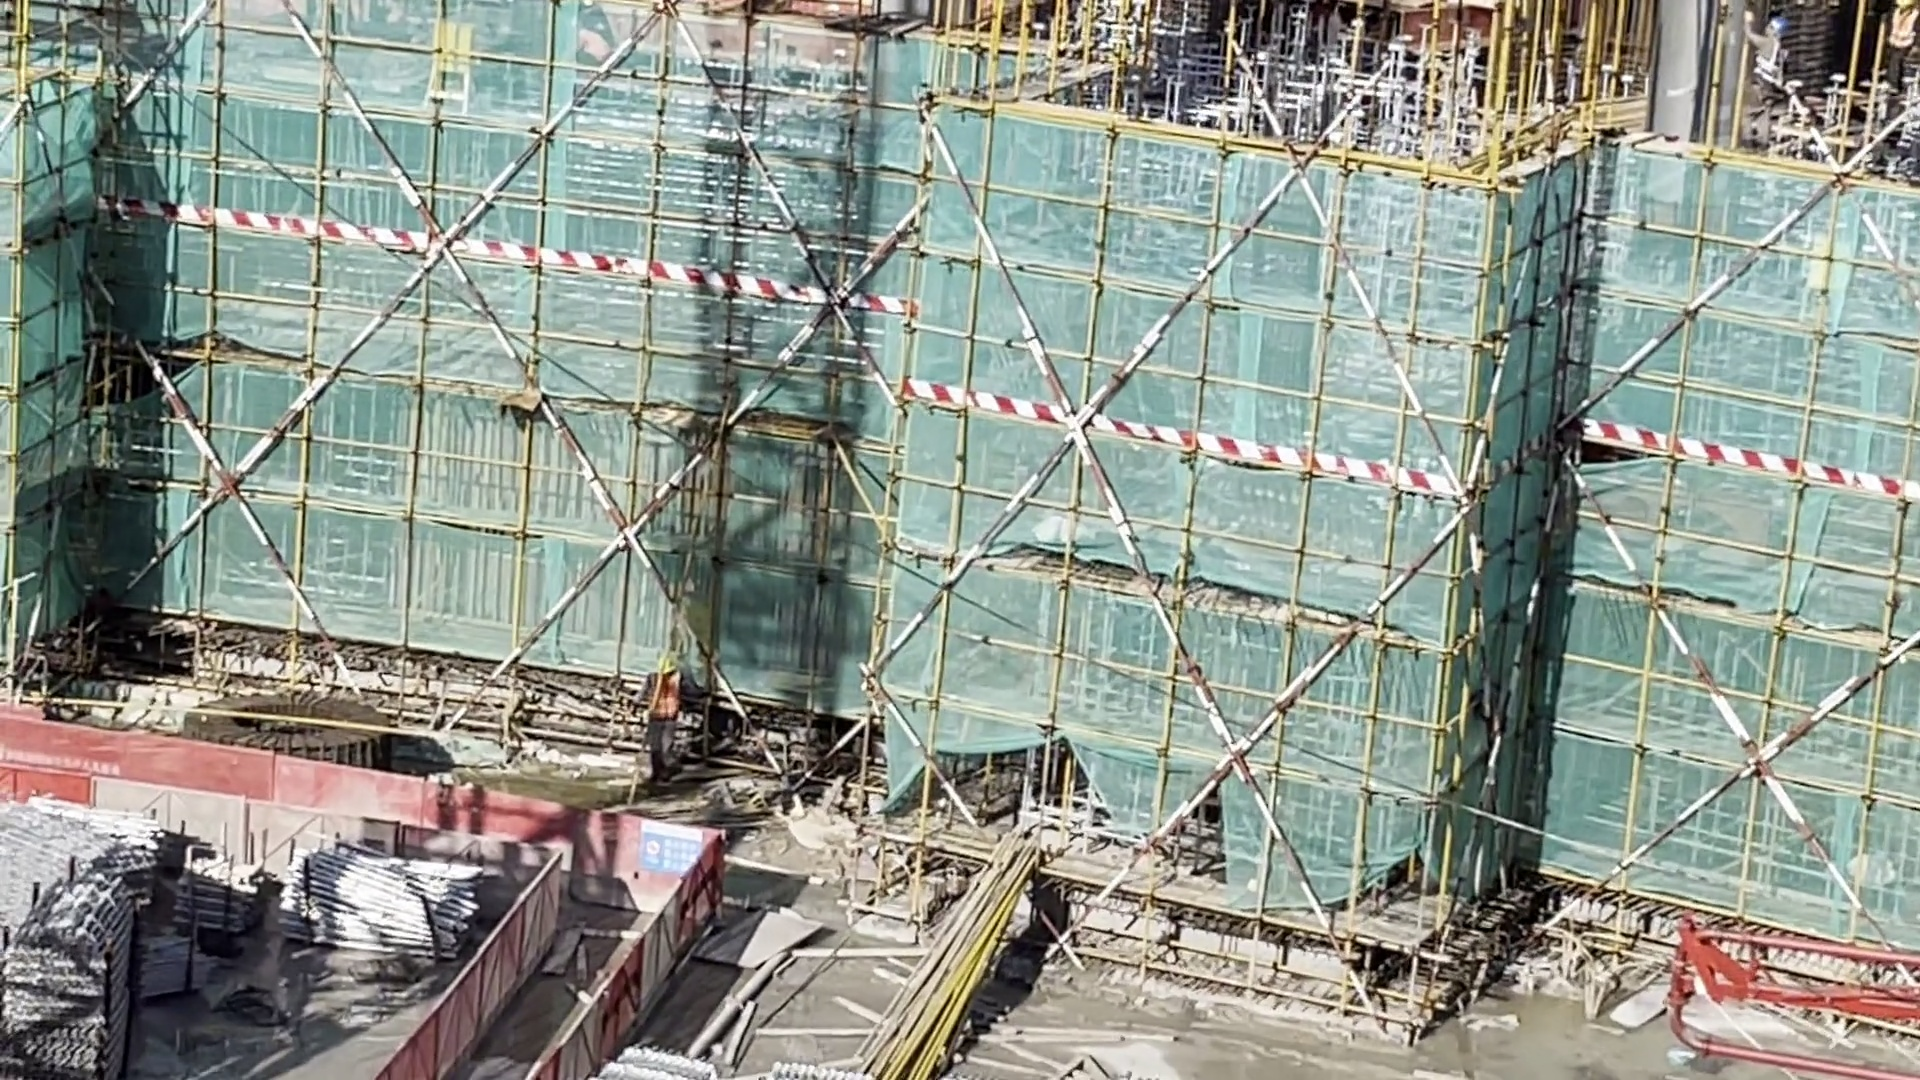fence: (2, 711, 638, 910), (378, 858, 711, 1080)
helmet: (654, 656, 679, 680)
person: (1746, 11, 1788, 139), (639, 651, 678, 793), (1882, 1, 1917, 96)
scaffold: (16, 891, 132, 1080), (1, 816, 166, 916), (290, 861, 470, 951), (171, 854, 254, 919)
slogan: (639, 819, 702, 881)
vest: (648, 677, 674, 722), (1755, 43, 1781, 84), (1889, 11, 1911, 47)
